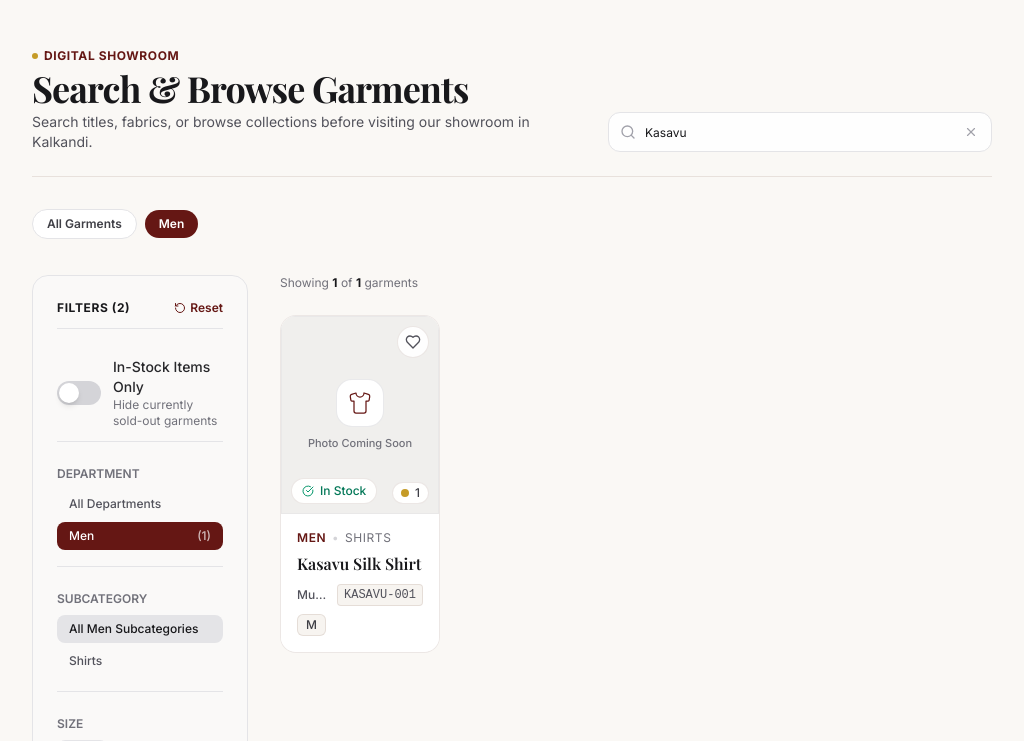
Test case: Catalog and Search Unified Optimization Suite › 4. Verifies Reset All Filters clears search, departments, and attributes
The image size is (1024, 741).
Expected: the heading "Kasavu Silk Shirt" is shown, left=297, top=552, right=423, bottom=576
Click the button "Reset".
click(199, 308)  # box left=174, top=300, right=223, bottom=316
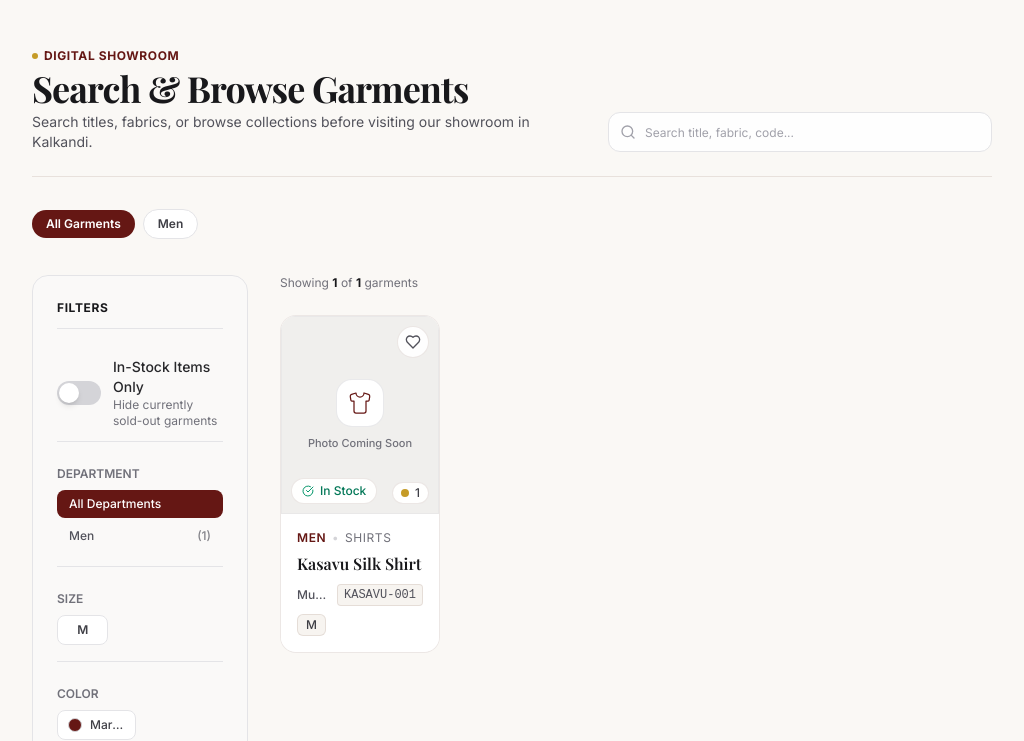
Expected: the dropdown with placeholder "Search title, fabric, code..." is empty, left=608, top=112, right=992, bottom=152
